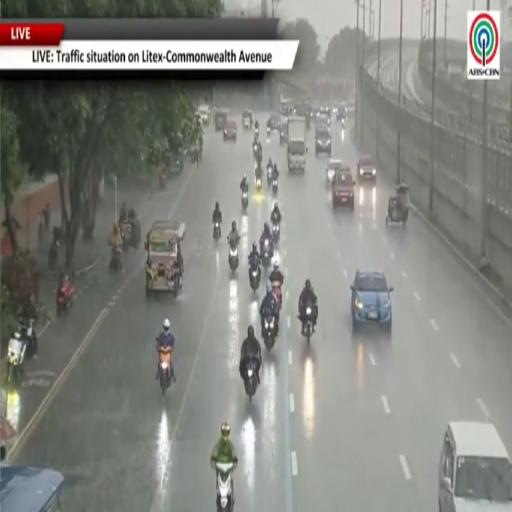bus: (0, 466, 64, 511)
car: (438, 422, 511, 511), (351, 269, 392, 329), (332, 165, 354, 210), (357, 155, 376, 182), (315, 125, 331, 156), (326, 158, 343, 184), (294, 103, 311, 129), (214, 109, 229, 131), (266, 113, 281, 131), (198, 104, 210, 125), (224, 120, 236, 140), (316, 110, 330, 125), (242, 110, 252, 129), (310, 103, 320, 121), (280, 120, 287, 145), (336, 106, 347, 121), (320, 105, 330, 117)
jeepney: (146, 221, 185, 296)
motorcycle: (7, 333, 28, 382), (216, 462, 233, 511), (18, 317, 37, 355), (243, 359, 258, 402), (159, 347, 172, 395), (57, 280, 74, 315), (262, 315, 276, 349), (48, 237, 59, 270), (261, 238, 272, 267), (305, 306, 313, 345), (249, 265, 260, 293), (228, 244, 238, 271), (110, 247, 121, 271), (122, 222, 131, 251), (273, 281, 281, 309), (213, 222, 221, 242), (272, 222, 279, 243), (242, 190, 248, 210), (159, 173, 166, 189), (267, 166, 272, 185), (272, 180, 278, 195), (256, 176, 261, 190), (253, 143, 257, 159), (255, 126, 259, 137), (341, 118, 345, 127), (267, 126, 270, 137)
tricycle: (386, 184, 409, 226)
truck: (288, 117, 306, 171)
